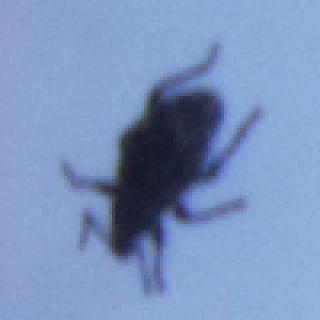bvw: (62, 43, 260, 294)
